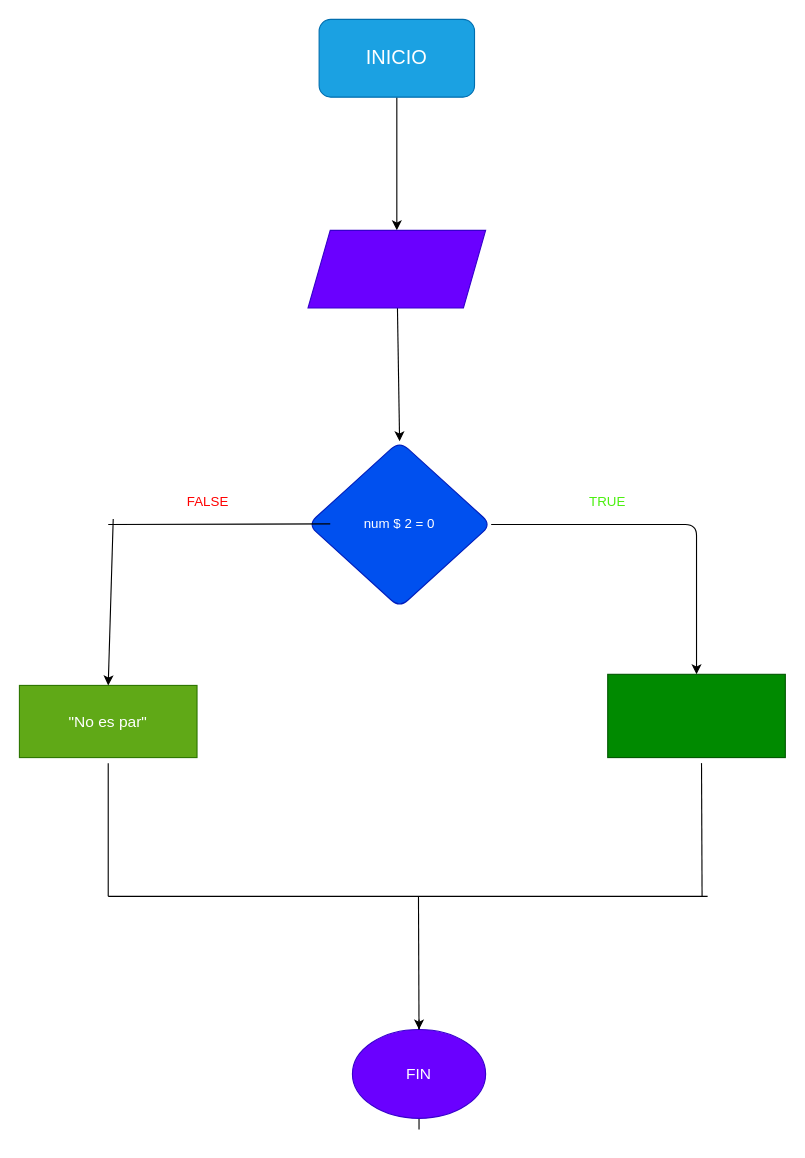
This 805x1158 diagram has some shape labels left out. Here are the shapes that lost their labels. From the top down, the centre of each, then its label:
pixel 396 268: Num
pixel 696 715: "Es par"
